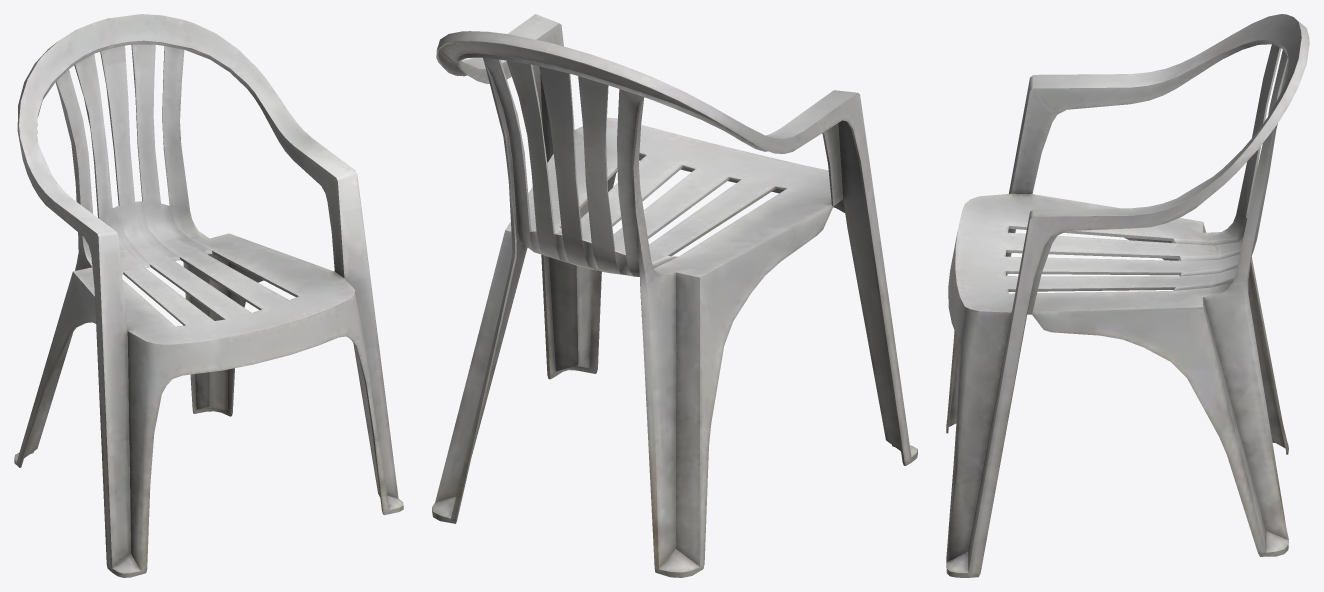
The model's file is plastic_monobloc_chair_01.glb.
3 views of the same model, side by side, from view 1: azimuth 30°, elevation 25°; view 2: azimuth 150°, elevation 25°; view 3: azimuth 270°, elevation 25° (orthographic). The views are drawn at different scales.
Visible parts, largest first — view 1: plastic_monobloc_chair_01; view 2: plastic_monobloc_chair_01; view 3: plastic_monobloc_chair_01.
Part boxes in pixels (x1,y1,x2,y2): plastic_monobloc_chair_01: (14,14,403,577); plastic_monobloc_chair_01: (432,14,917,577); plastic_monobloc_chair_01: (946,14,1309,577).
Bounding box in the file's own units: 0.6419 × 0.8798 × 0.6276.
1 material, 1 textured.
